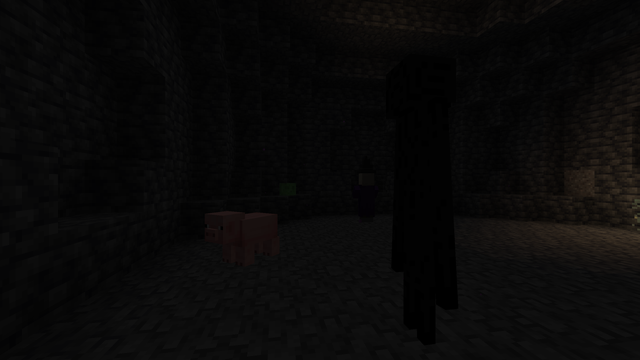cochons: (223, 211, 272, 265)
endermens: (380, 41, 463, 354)
slimes: (280, 182, 293, 195)
sorcieres: (356, 171, 373, 223)
